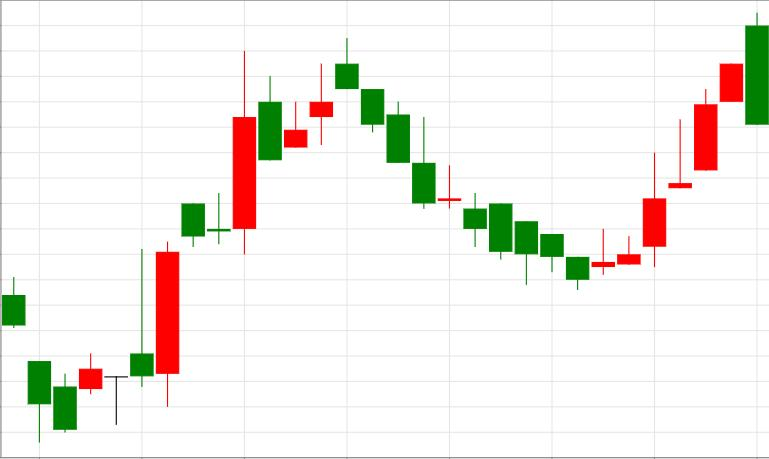bearish_engulfing_fall: (566, 12, 768, 290)
